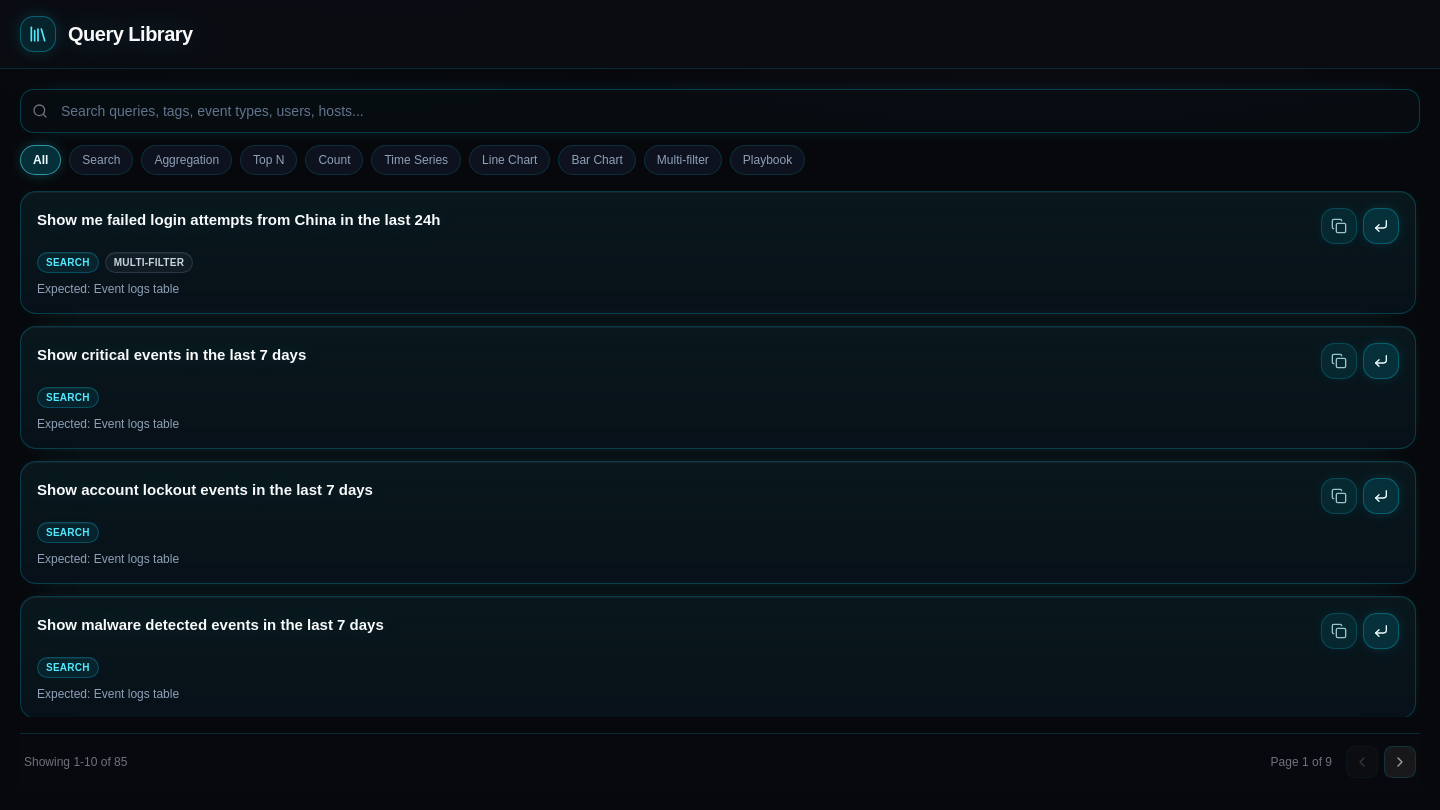
Test: QueryLibraryPage › filters by category chips
Expected: the text "Show me failed login attempts from China in the last 24h" is shown, [37,208,440,232]
# Click 'Count' category
Click the button "Count". click: click(334, 160)
box: [306,145,364,175]
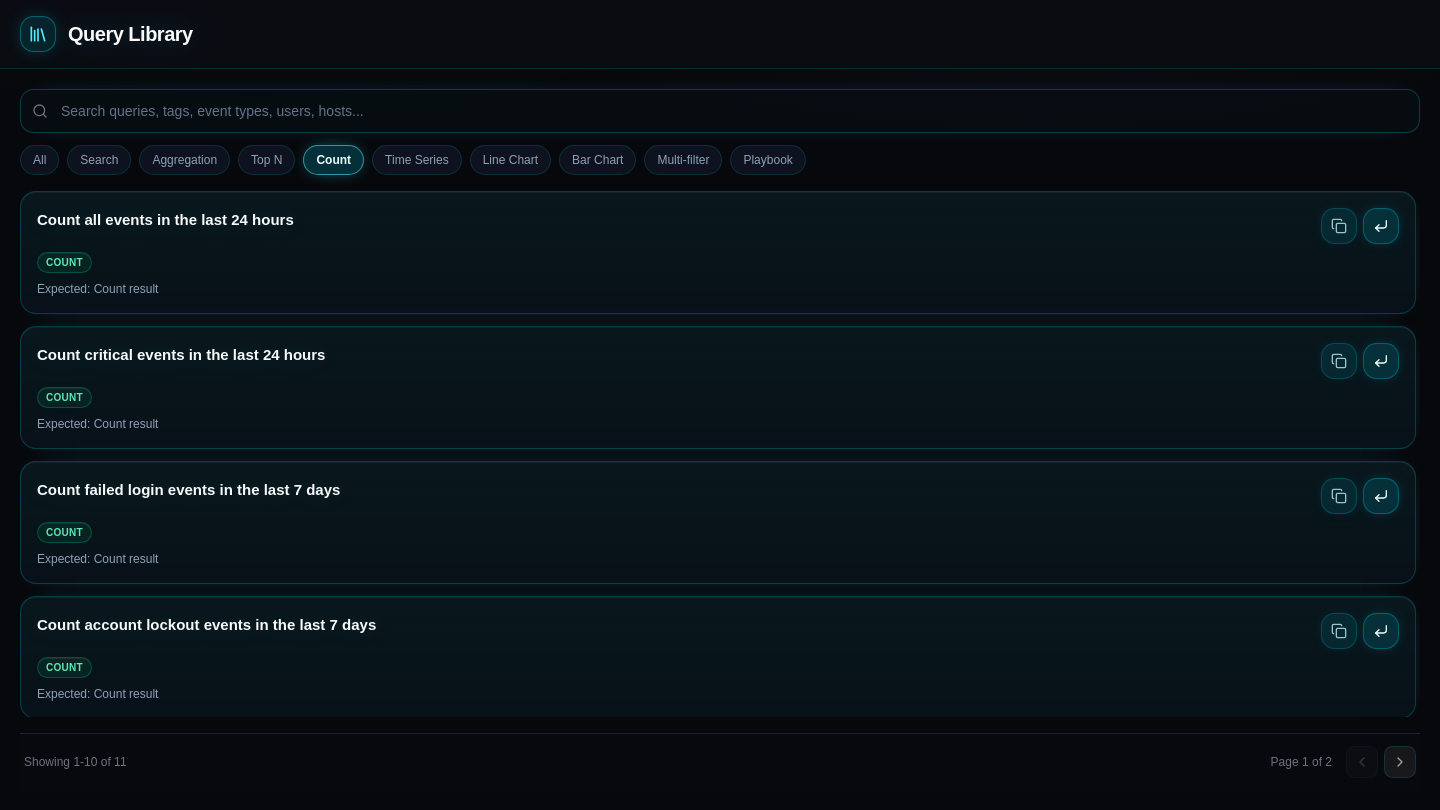
Result: the text "Count all events in the last 24 hours" is shown at [37,208,294,232]
Result: the text "Show me failed login attempts from China" is gone
